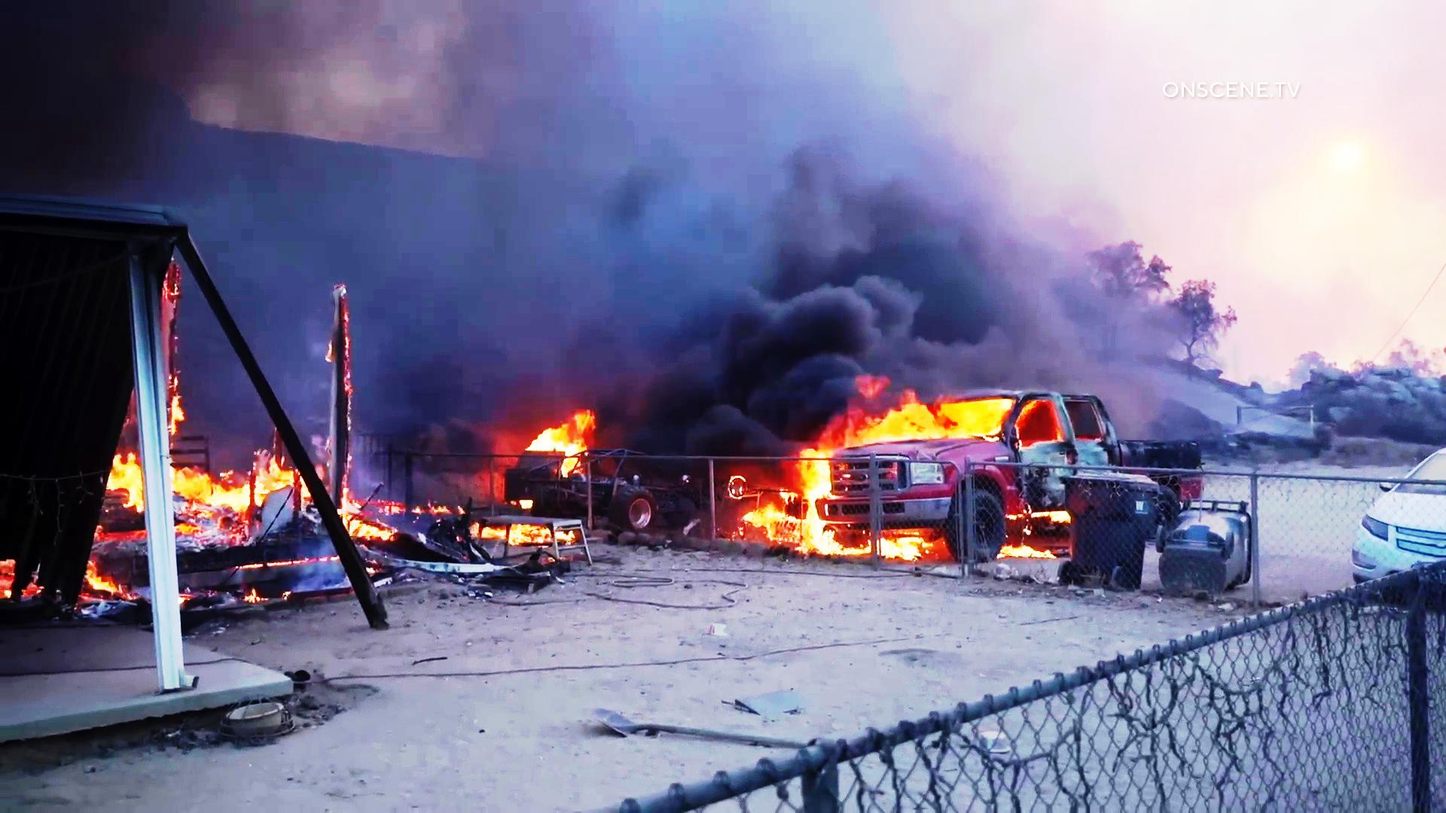fire: (885, 409, 1005, 455), (522, 414, 609, 472)
smoke: (652, 100, 834, 451)
